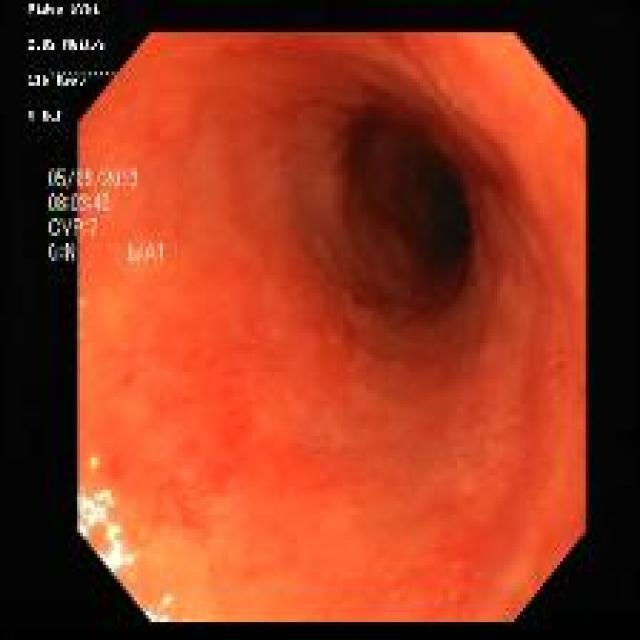ulcerative-colitis: (78, 33, 585, 622)
